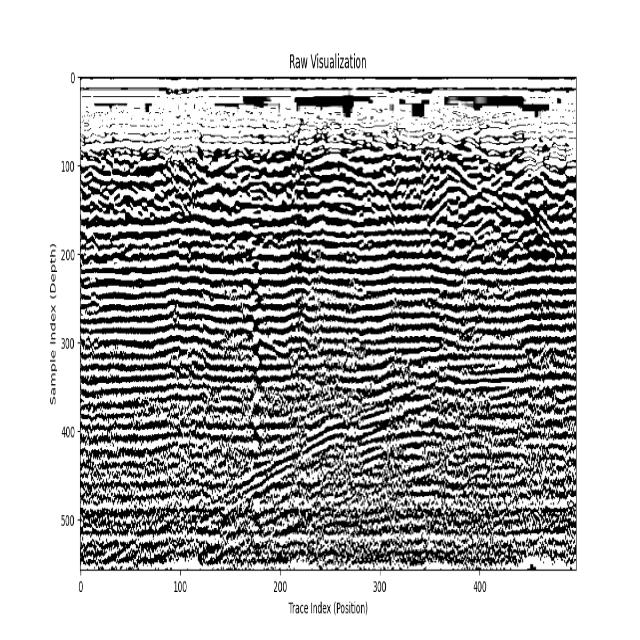anomaly: (435, 180, 553, 276)
